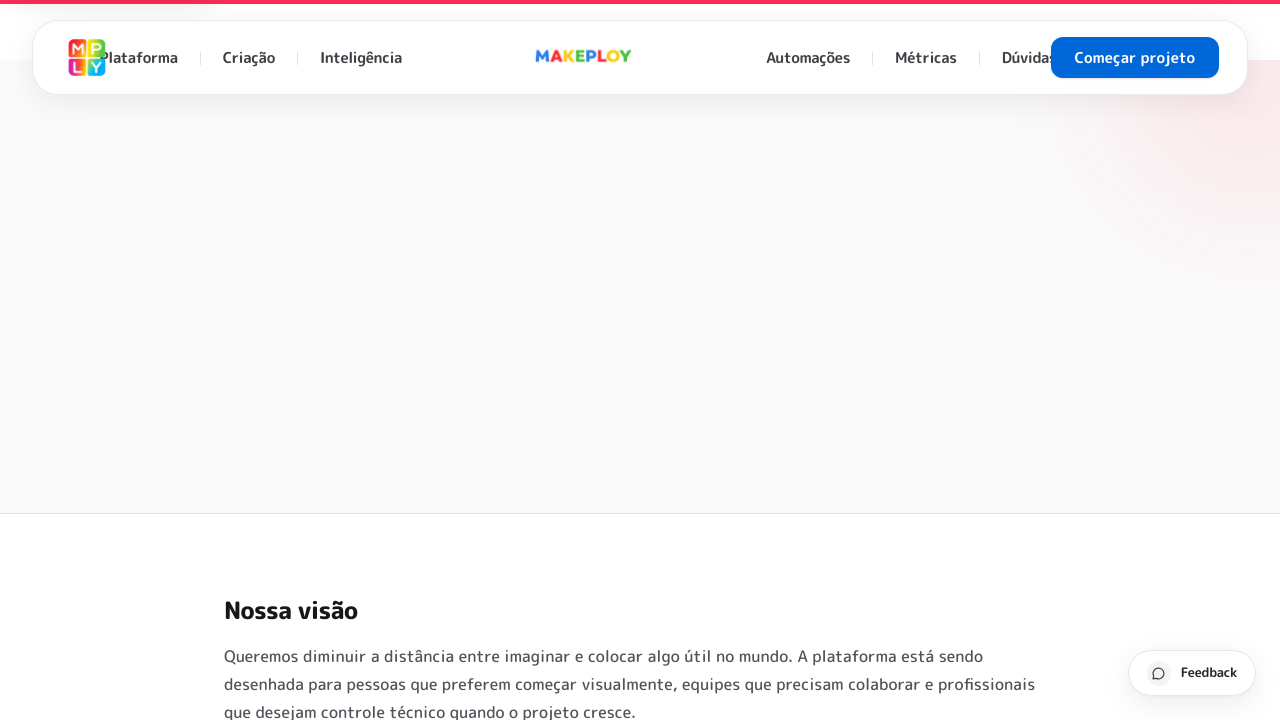
it: route regressions › opens early access from an institutional page
Click the link "Começar projeto": (1135, 58) left=1051, top=37, right=1219, bottom=78
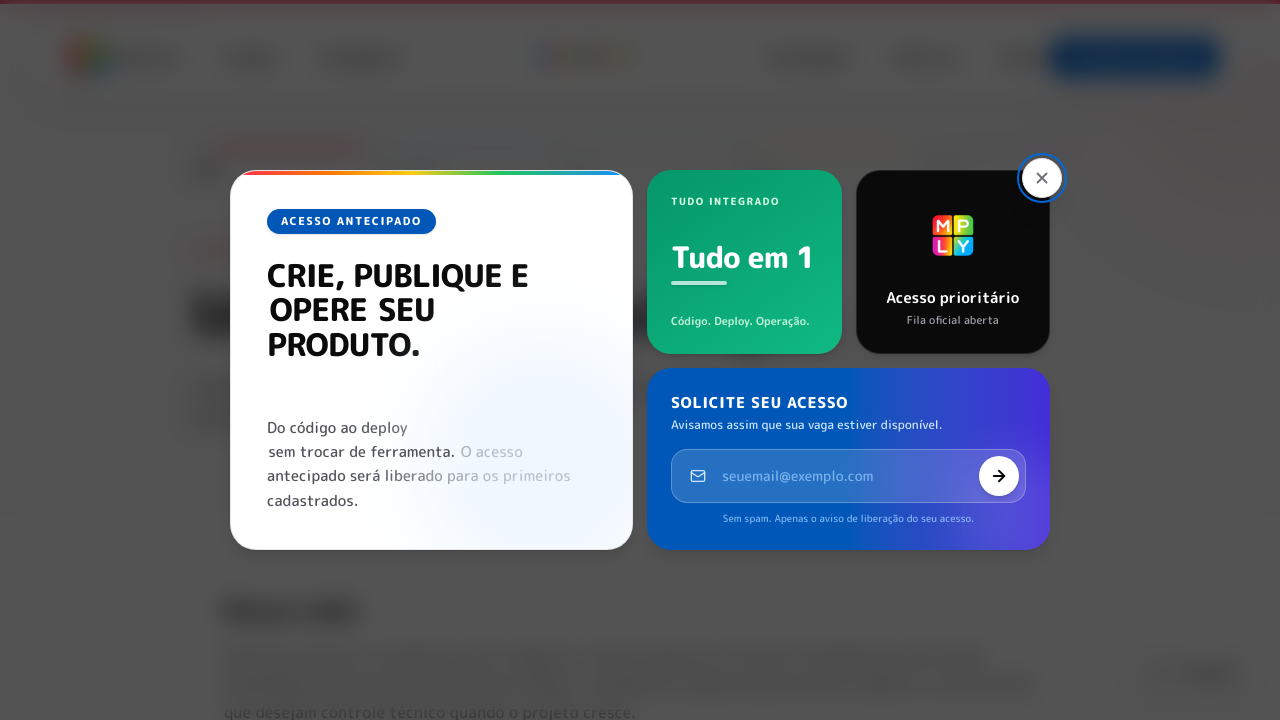
Now the dialog is shown
